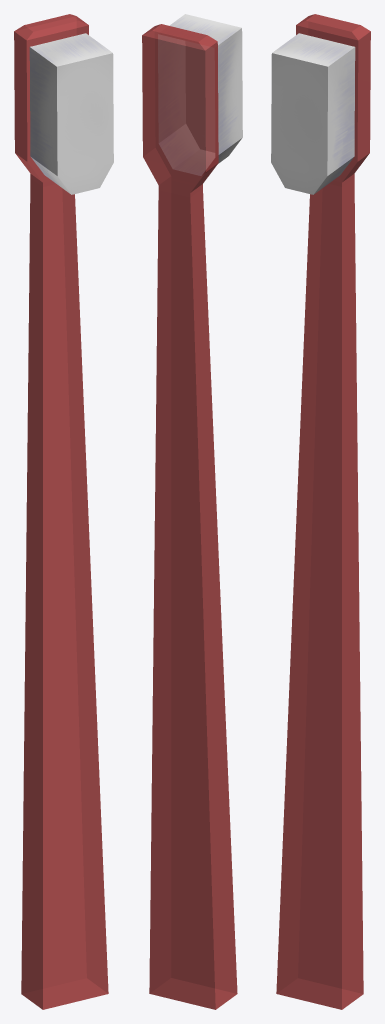
File: Brush_02A.fbx
The picture shows the model from 3 angles, left to right: view 1: azimuth 30°, elevation 25°; view 2: azimuth 150°, elevation 25°; view 3: azimuth 330°, elevation 25°; orthographic projection.
Parts seen in each view (by area): view 1: MOD_Brush02A; view 2: MOD_Brush02A; view 3: MOD_Brush02A.
Part boxes in pixels (left/top/right/bottom): MOD_Brush02A: left=14, top=14, right=113, bottom=1009; MOD_Brush02A: left=142, top=14, right=242, bottom=1009; MOD_Brush02A: left=271, top=14, right=370, bottom=1009.
Bounding box in the file's own units: 3.62 × 50.63 × 3.86.
